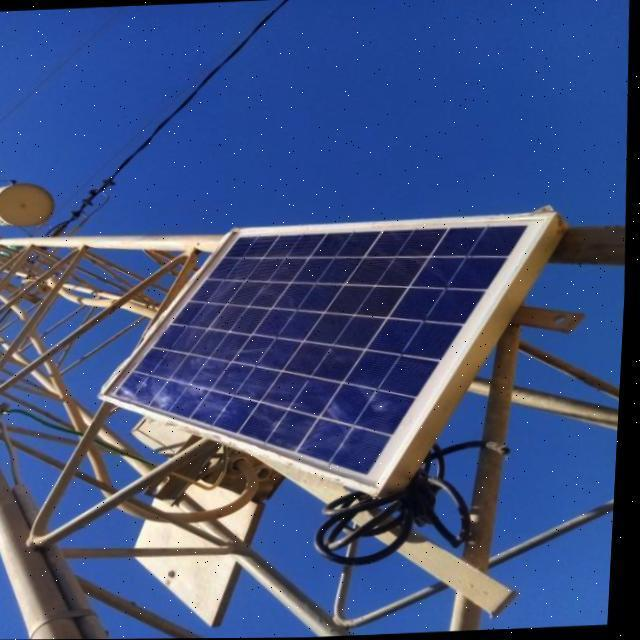Normal Solar Panel: (94, 215, 560, 505)
